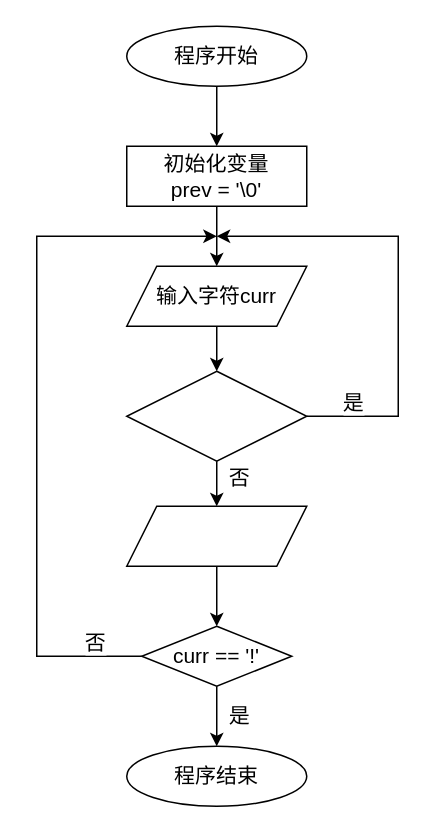
Some shapes in this 437 by 833 pixel diagram are drawn without their labels. The shapes that lost their labels are listed below. From the top down, each one's centre as x and y in pixels, then its label:
At pixel 216 415: "curr == prev 且 curr == ' '".
At pixel 216 535: "输出curr".
